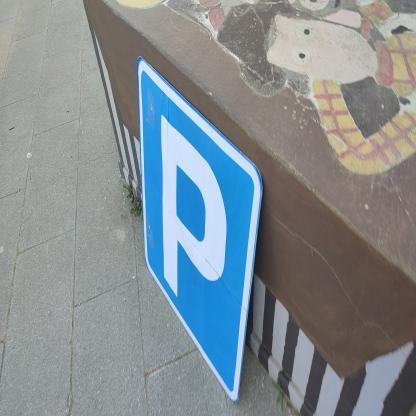parking: (139, 57, 264, 405)
